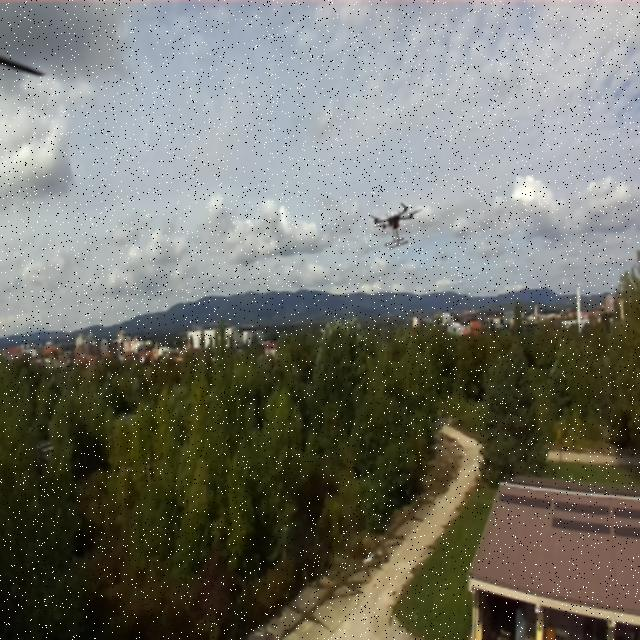UAV: (366, 198, 419, 248)
